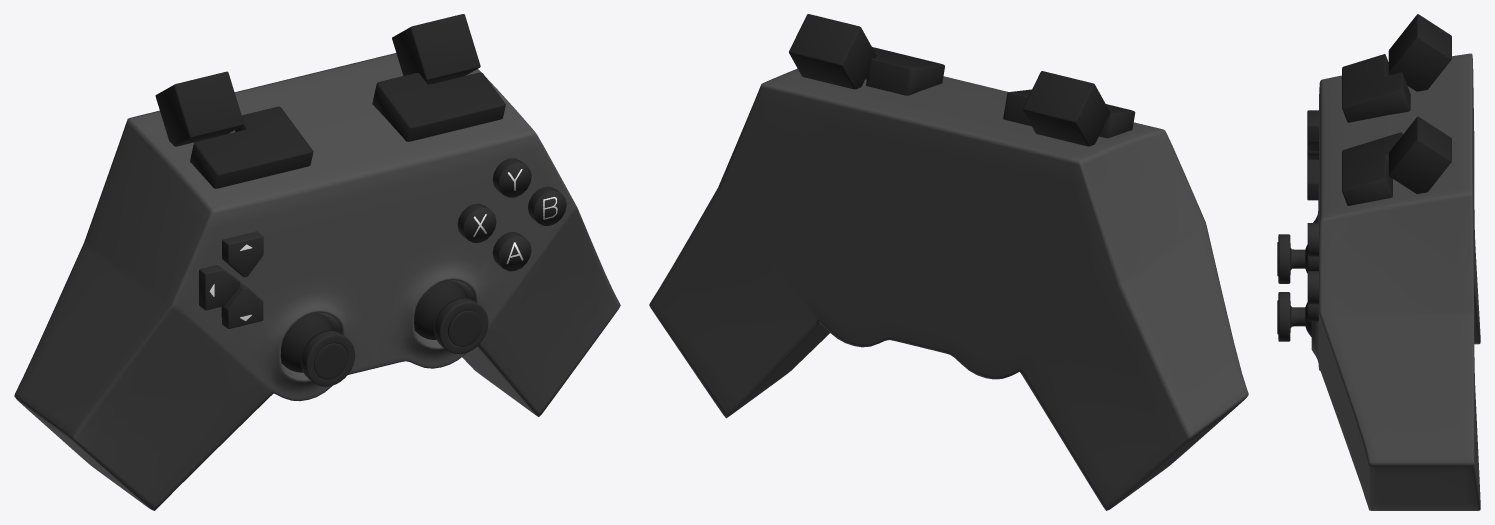
The model's file is ctrl.gltf.
3 renders of one model, left to right at view 1: azimuth 30°, elevation 25°; view 2: azimuth 150°, elevation 25°; view 3: azimuth 270°, elevation 25°, orthographic. The views are drawn at different scales.
Parts seen in each view (by area): view 1: Body, Button_RB, Button_LB, Button_LT, Button_RT, Stick_L, Stick_R, Button_Up, Button_Left, Button_Down, Button_Y, Button_A (+2 smaller); view 2: Body, Button_LT, Button_RT, Button_RB, Button_LB; view 3: Body, Button_LB, Button_RT, Button_LT, Button_RB, Stick_R, Stick_L, Button_Up, Button_Down, Button_Y, Button_B.
Part boxes in pixels (box(x1,y1,x2,y2)): Body: box(14, 53, 620, 510); Button_RB: box(372, 72, 505, 141); Button_LB: box(190, 106, 313, 188); Button_LT: box(155, 71, 243, 146); Button_RT: box(392, 14, 480, 84); Stick_L: box(280, 313, 355, 386); Stick_R: box(414, 280, 488, 354); Button_Up: box(222, 231, 263, 277); Button_Left: box(199, 265, 240, 310); Button_Down: box(221, 283, 263, 328); Button_Y: box(492, 158, 531, 197); Button_A: box(492, 232, 531, 271); Body: box(649, 68, 1248, 510); Button_LT: box(1022, 71, 1110, 146); Button_RT: box(789, 14, 876, 89); Button_RB: box(865, 47, 944, 95); Button_LB: box(1003, 89, 1135, 138); Body: box(1311, 53, 1480, 510); Button_LB: box(1342, 54, 1410, 122); Button_RT: box(1388, 116, 1451, 193); Button_LT: box(1388, 14, 1451, 91); Button_RB: box(1342, 132, 1402, 205); Stick_R: box(1277, 292, 1311, 341); Stick_L: box(1277, 234, 1307, 283); Button_Up: box(1307, 110, 1318, 151); Button_Down: box(1307, 159, 1318, 200); Button_Y: box(1307, 223, 1318, 256); Button_B: box(1307, 271, 1318, 304).
Size of the model in its own units: 4.89 by 3.37 by 1.77.
Materials: 6 (2 with a texture image).
